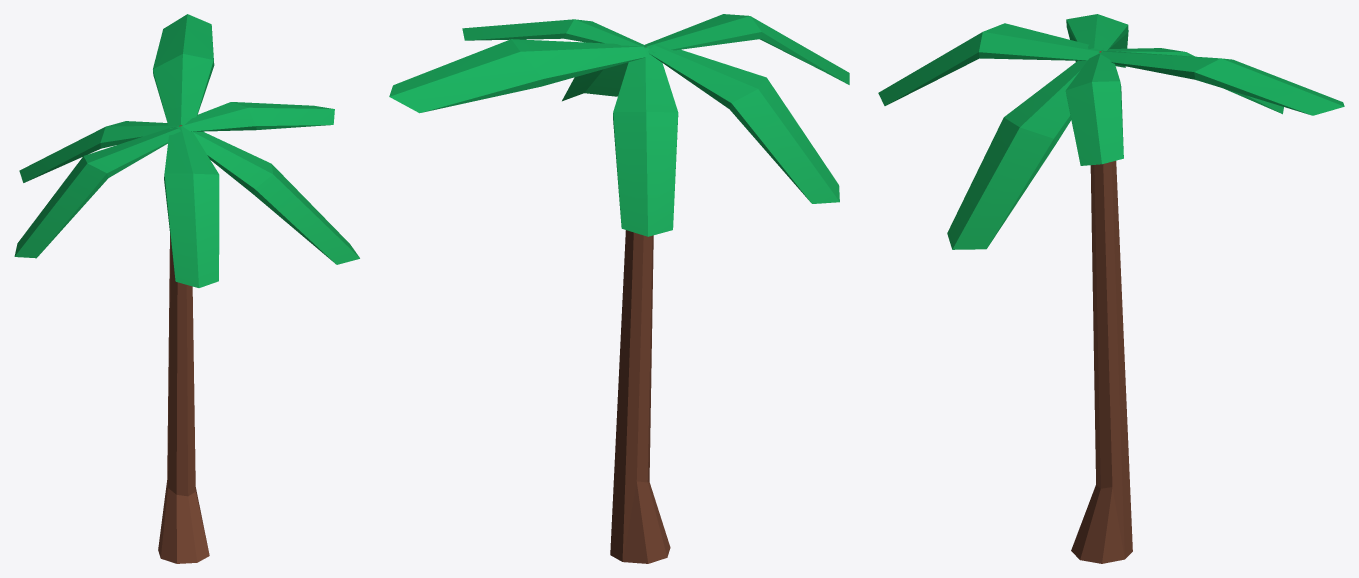
Rendered from Tree_39_gradient_green_vc.fbx.
3 renders of one model, left to right at view 1: azimuth 30°, elevation 25°; view 2: azimuth 150°, elevation 25°; view 3: azimuth 270°, elevation 25°, orthographic. The views are drawn at different scales.
Parts seen in each view (by area): view 1: Tree_39_gradient_green_vc; view 2: Tree_39_gradient_green_vc; view 3: Tree_39_gradient_green_vc.
Boxes of the visible parts, x1,y1,x2,y2 form: Tree_39_gradient_green_vc: (14,14,359,563); Tree_39_gradient_green_vc: (389,14,849,563); Tree_39_gradient_green_vc: (878,14,1344,563).
Size of the model in its own units: 152 by 204 by 166.
